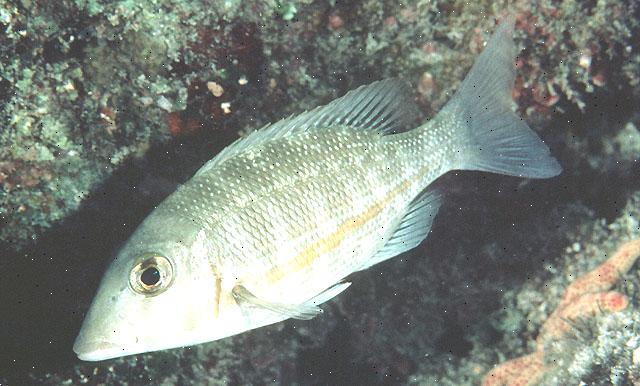Mulut: (56, 328, 144, 372)
Sirip Anal: (352, 182, 448, 278)
Sirip Dada: (224, 274, 328, 338)
Sirip Ekor: (444, 8, 576, 188)
Sirip Perut: (304, 278, 360, 317)
Sirip Punggung: (192, 72, 432, 168)
